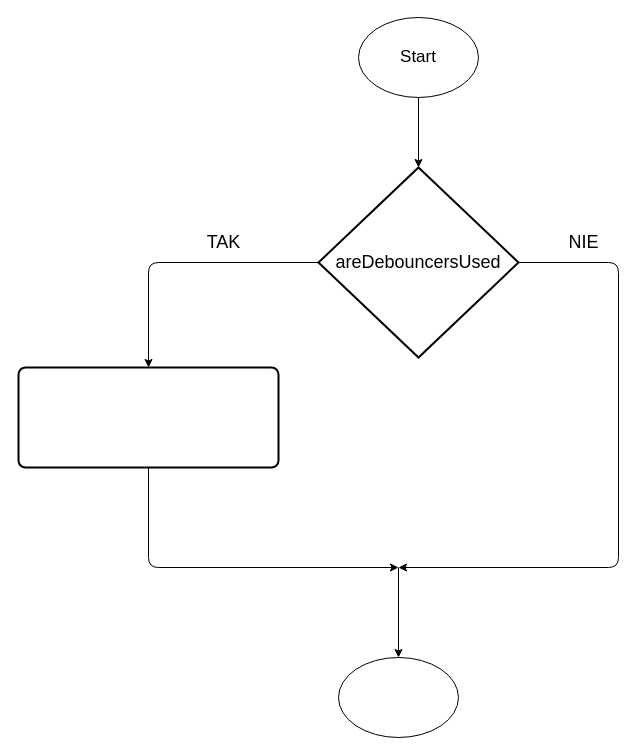
Some shapes in this 644 by 755 pixel diagram are drawn without their labels. The shapes that lost their labels are listed below. From the top down, each one's centre as x and y in pixels, then its label:
At (148,417): "Wygeneruj układy tłumiące drgania oraz dzielnik zegara dla nich".
At (398,697): "STOP".
